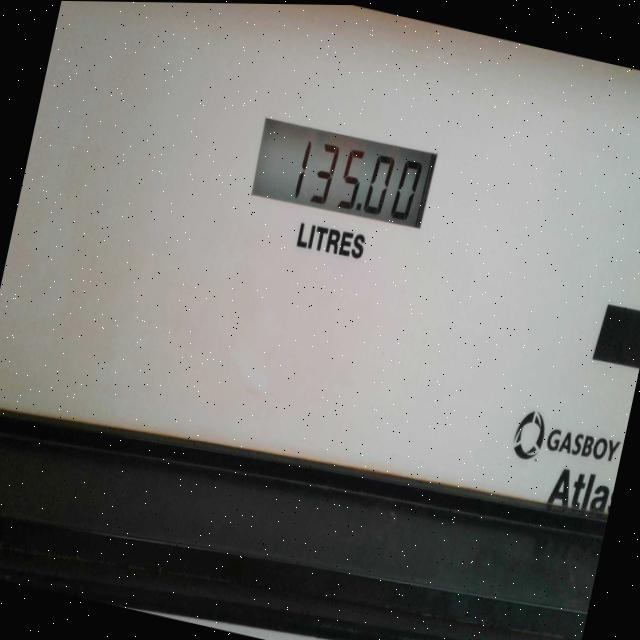.: (353, 197, 362, 214)
0: (386, 154, 424, 227), (363, 154, 395, 219)
1: (294, 139, 314, 197)
3: (310, 139, 340, 204)
5: (338, 148, 366, 211)
